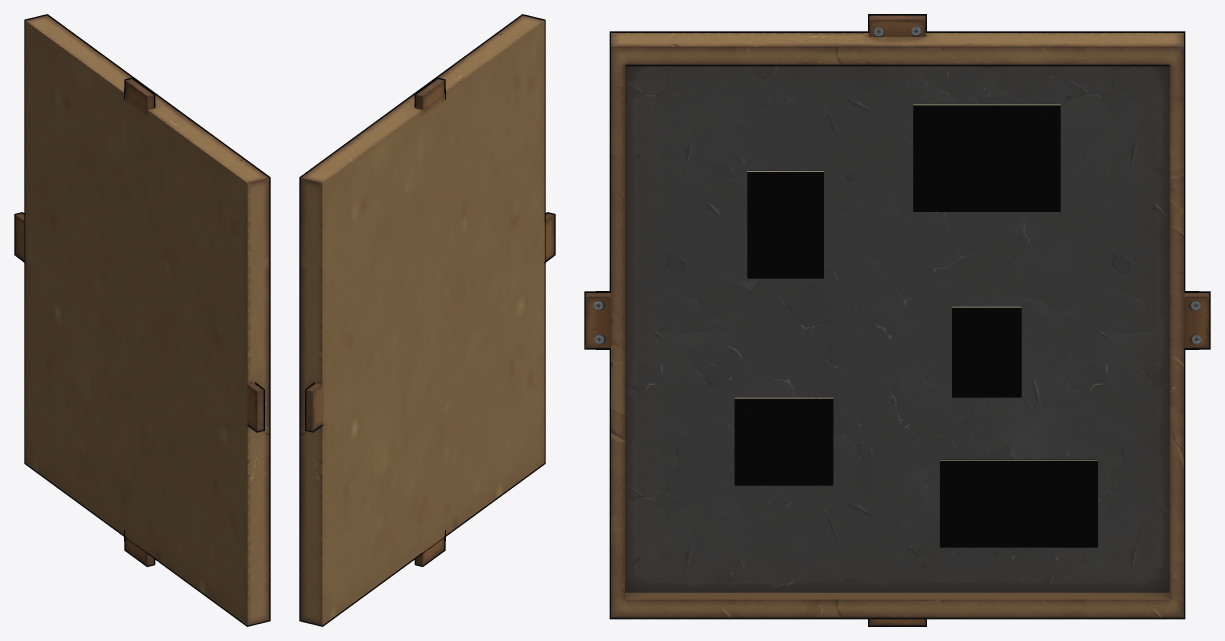
Rendered from Board.fbx.
The picture shows the model from 3 angles, left to right: view 1: azimuth 30°, elevation 25°; view 2: azimuth 150°, elevation 25°; view 3: azimuth 270°, elevation 25°; orthographic projection. The views are drawn at different scales.
Visible parts, largest first — view 1: Board; view 2: Board; view 3: Board.
Part boxes in pixels (box(x1,y1,x2,y2)): Board: box(14, 14, 270, 626); Board: box(299, 14, 555, 626); Board: box(584, 14, 1210, 626).
Bounding box in the file's own units: 8.21 × 157 × 146.
